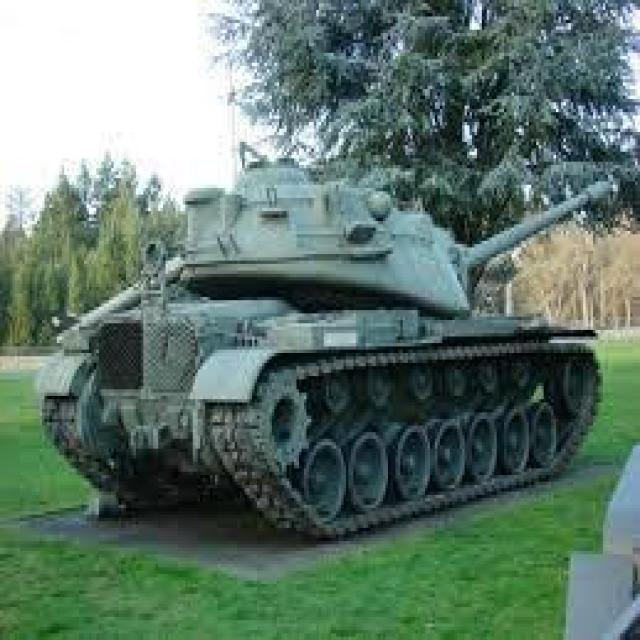Tanks: (18, 78, 574, 602)
